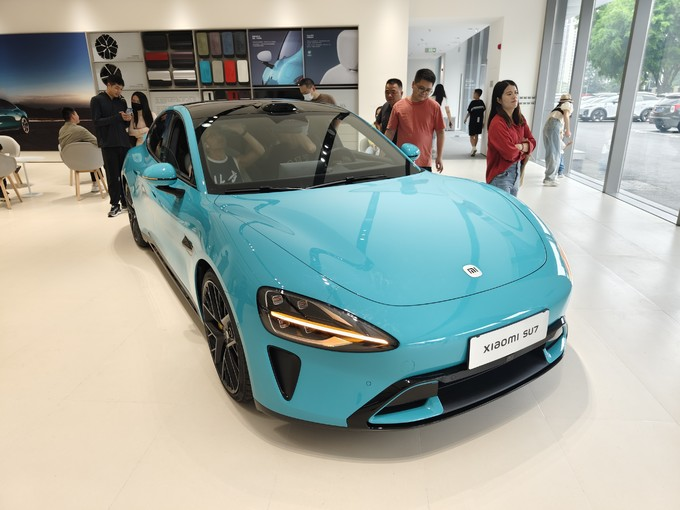su7: (118, 92, 572, 434)
